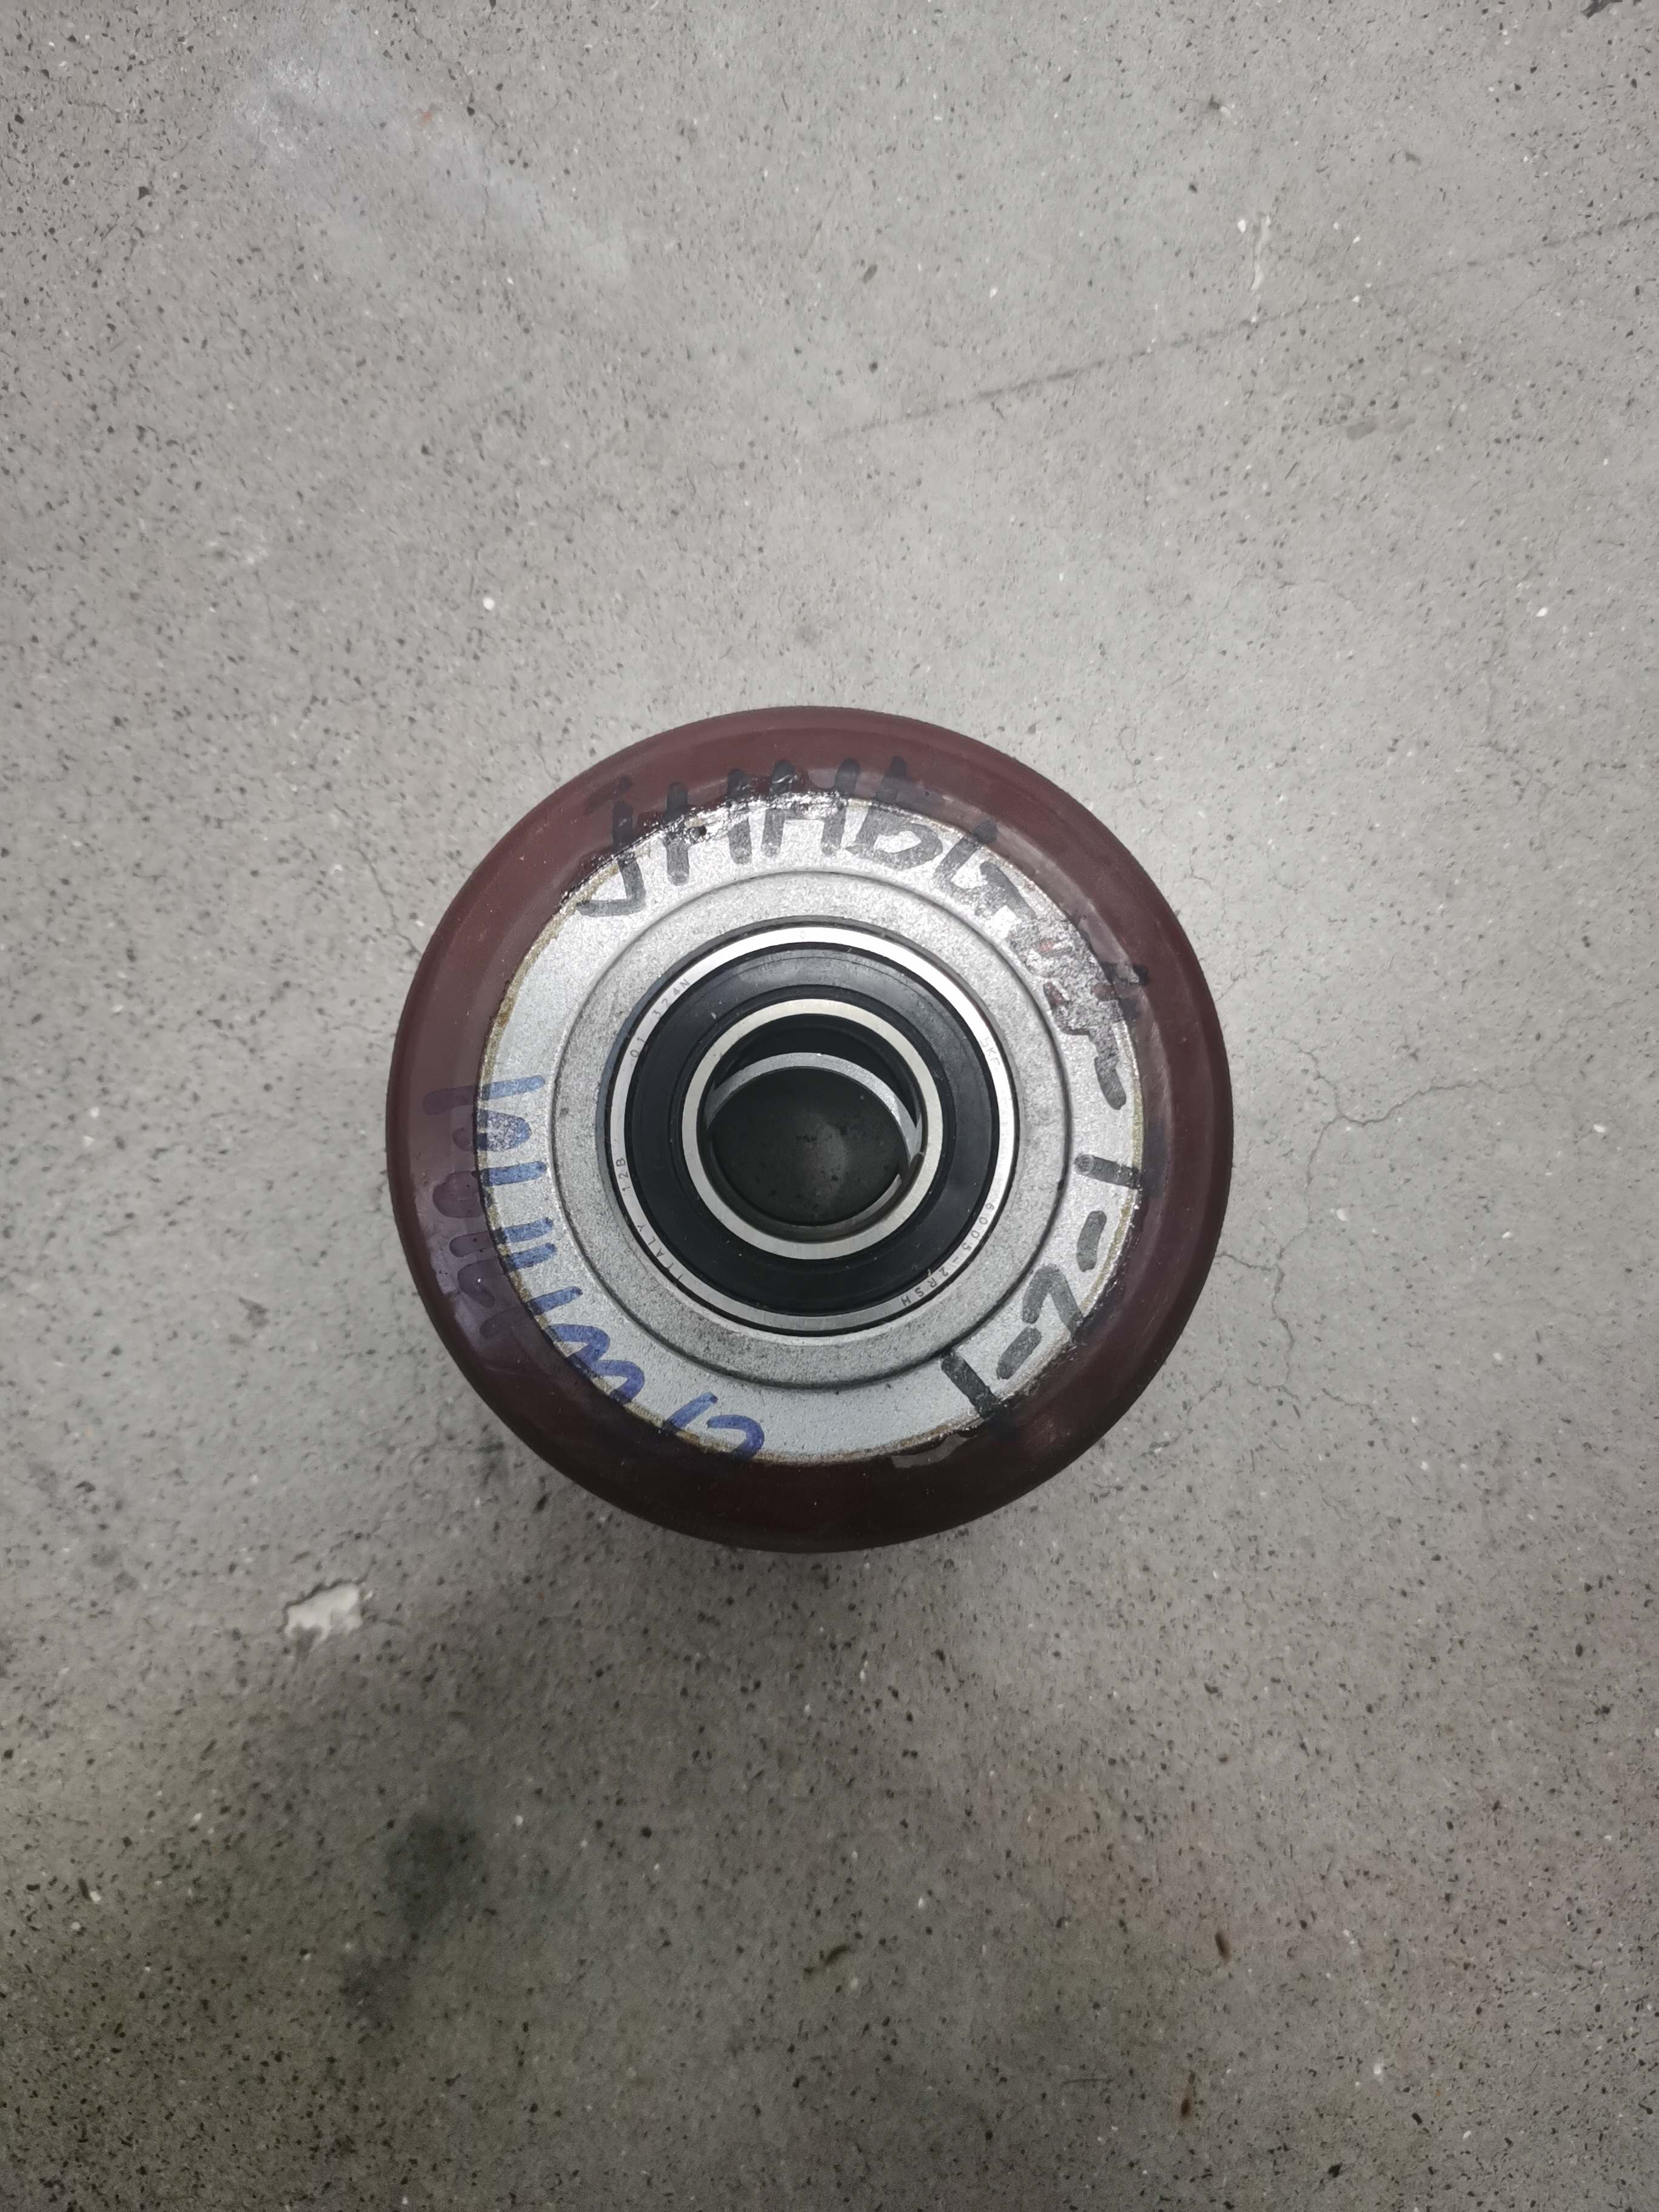good_wheel: (376, 639, 1281, 1639)
